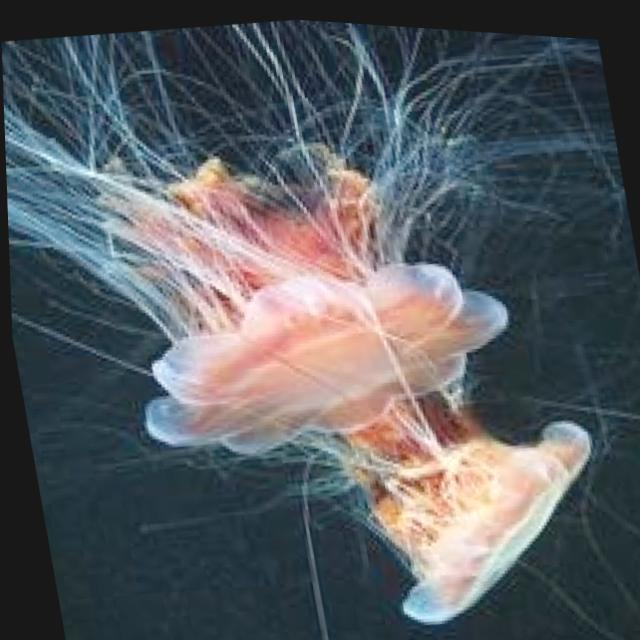Jellyfish: (42, 2, 547, 570), (309, 313, 627, 636)
